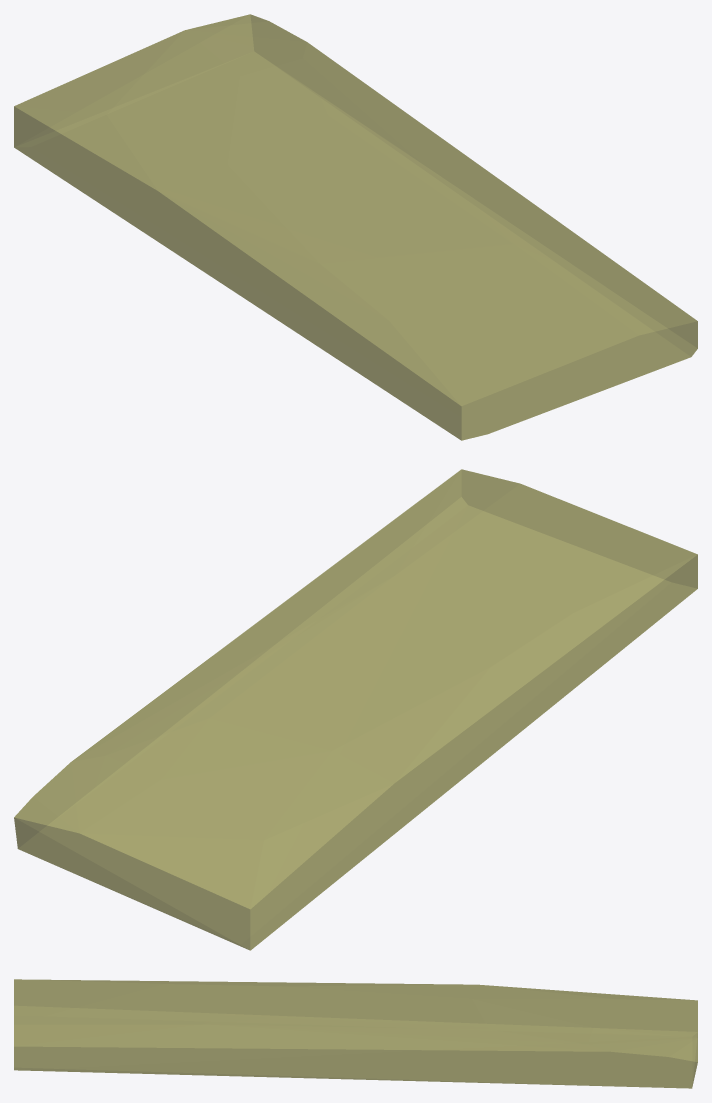
3 views of the same model, one above another, from view 1: azimuth 30°, elevation 25°; view 2: azimuth 150°, elevation 25°; view 3: azimuth 270°, elevation 25° (orthographic). The views are drawn at different scales.
Visible parts, largest first — view 1: Shape_IndexedFaceSet.006_Shape_IndexedFaceSet.11150; view 2: Shape_IndexedFaceSet.006_Shape_IndexedFaceSet.11150; view 3: Shape_IndexedFaceSet.006_Shape_IndexedFaceSet.11150.
Part boxes in pixels (x1,y1,x2,y2): Shape_IndexedFaceSet.006_Shape_IndexedFaceSet.11150: (14,14,697,440); Shape_IndexedFaceSet.006_Shape_IndexedFaceSet.11150: (14,469,697,950); Shape_IndexedFaceSet.006_Shape_IndexedFaceSet.11150: (14,979,697,1088).
Bounding box in the file's own units: 0.1182 × 0.046 × 0.3874.
